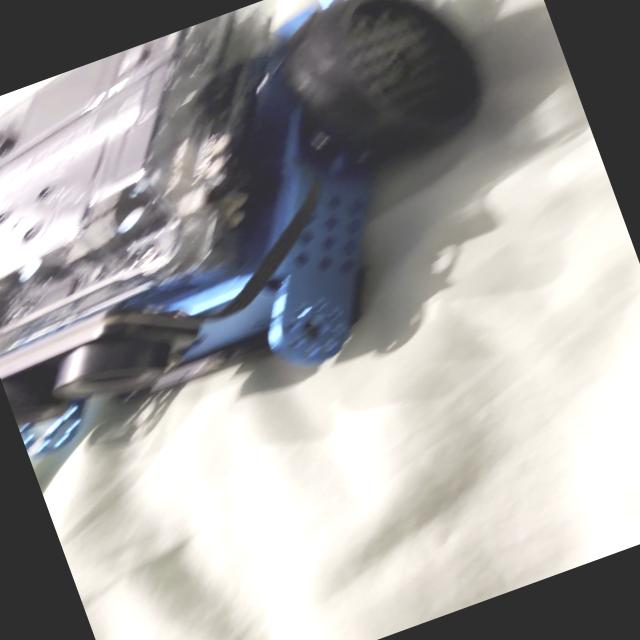mbot-detection: (0, 0, 571, 480)
